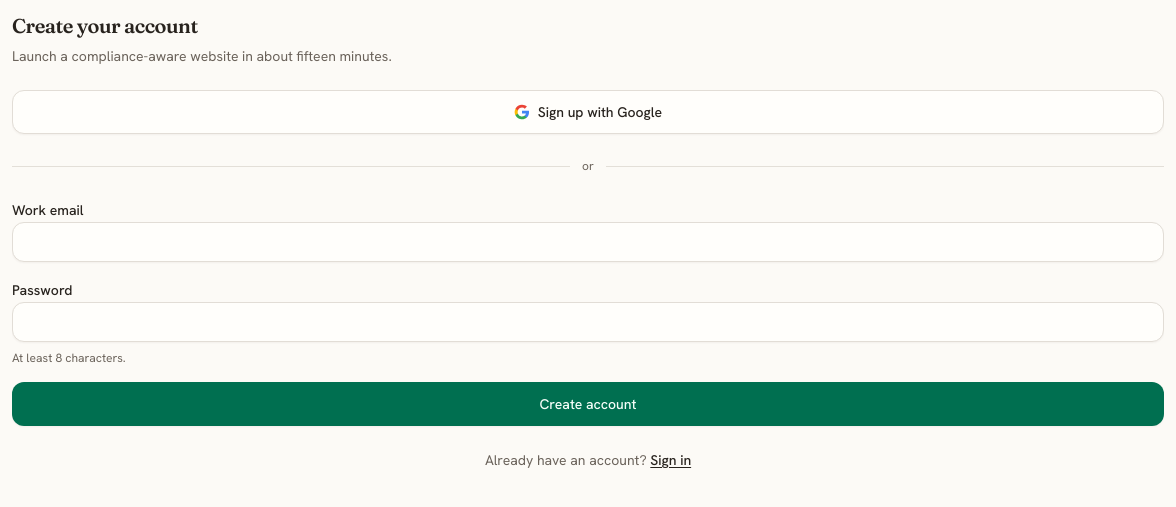
Test case: <SignupForm /> › flags a malformed email on blur in real time
Type "not-an-email" into the field labelled "Work email" at (588, 242), box x1=12 y1=222 x2=1164 y2=262
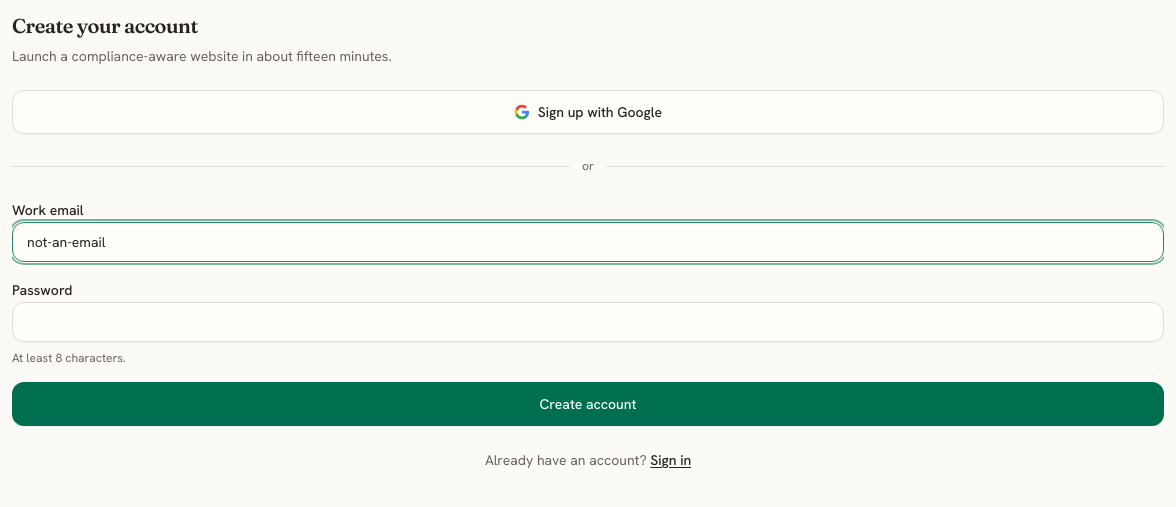
Press Tab
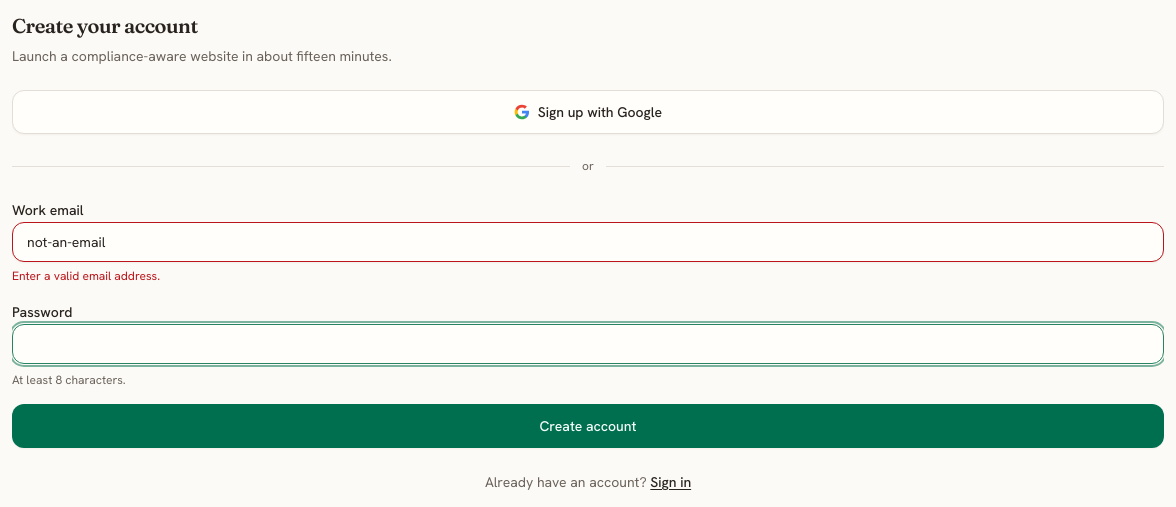
Check: the text "Enter a valid email address." is shown, box x1=12 y1=268 x2=160 y2=284
